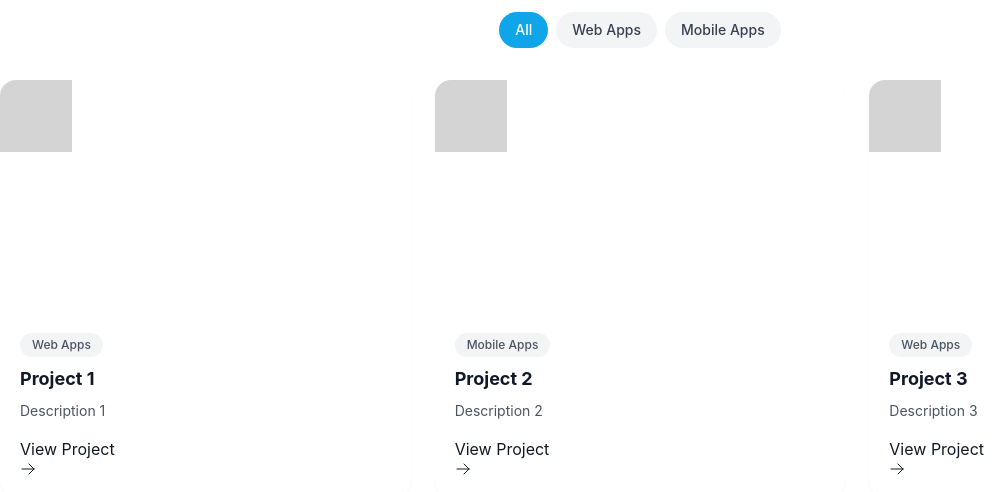
ProjectGrid › Category Filtering › should filter projects when category button is clicked
Click on Web Apps filter
Click the button "Web Apps" at (607, 30), box [556,12,657,48]
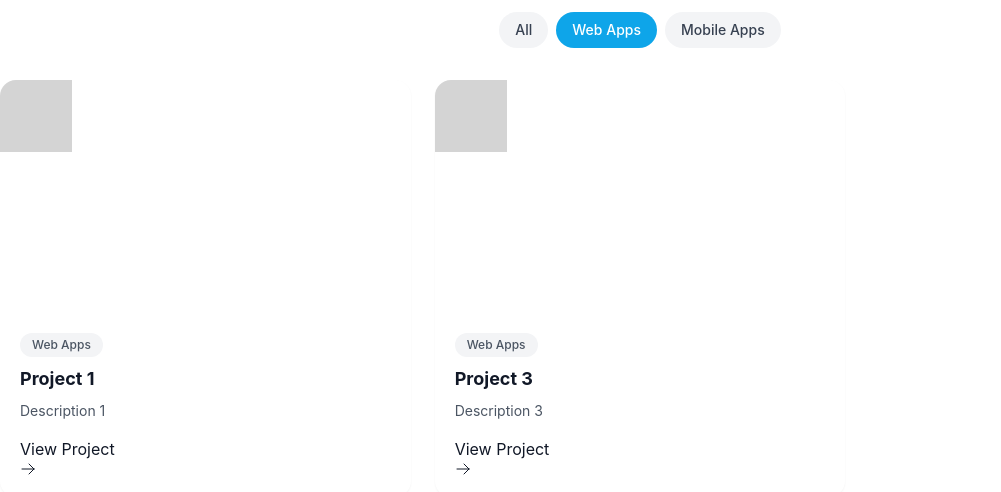
Expected: the heading "Project 1" is shown, [20,368,94,389]
Expected: the heading "Project 2" is gone
